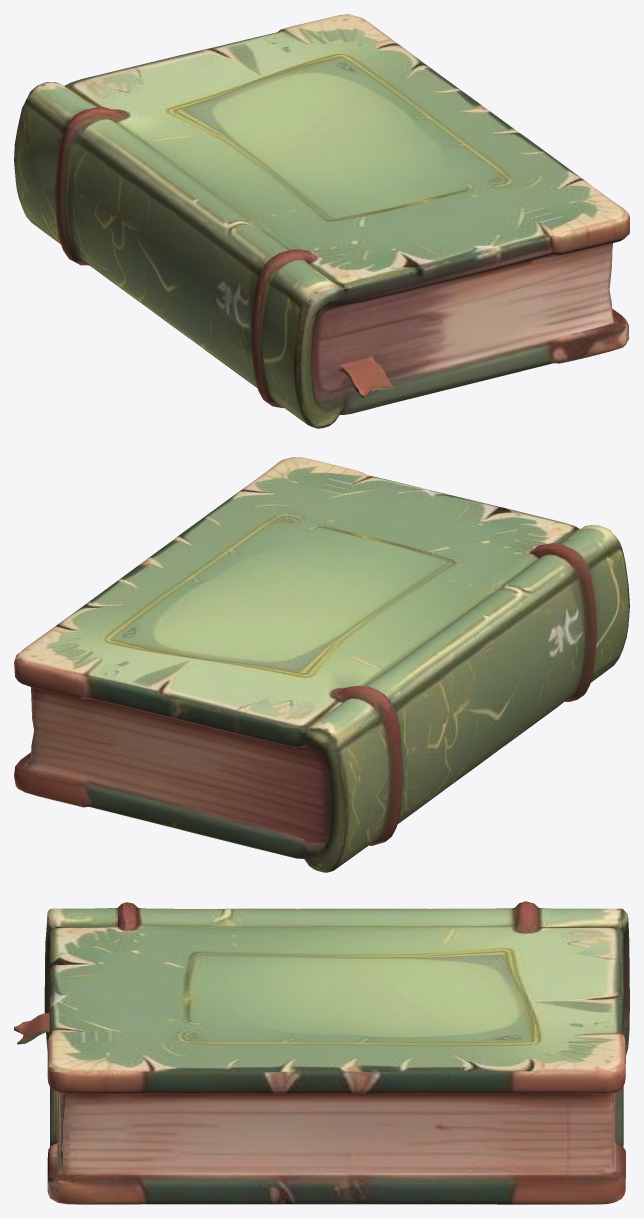
The model's file is book.glb.
The picture shows the model from 3 angles, top to bottom: view 1: azimuth 30°, elevation 25°; view 2: azimuth 150°, elevation 25°; view 3: azimuth 270°, elevation 25°; orthographic projection. The views are drawn at different scales.
Visible parts, largest first — view 1: item_book; view 2: item_book; view 3: item_book.
Boxes of the visible parts, <box> form: item_book: <box>14,14,629,428</box>; item_book: <box>14,457,629,872</box>; item_book: <box>14,901,629,1204</box>.
Size of the model in its own units: 0.6668 by 0.2838 by 1.
1 material, 1 textured.
